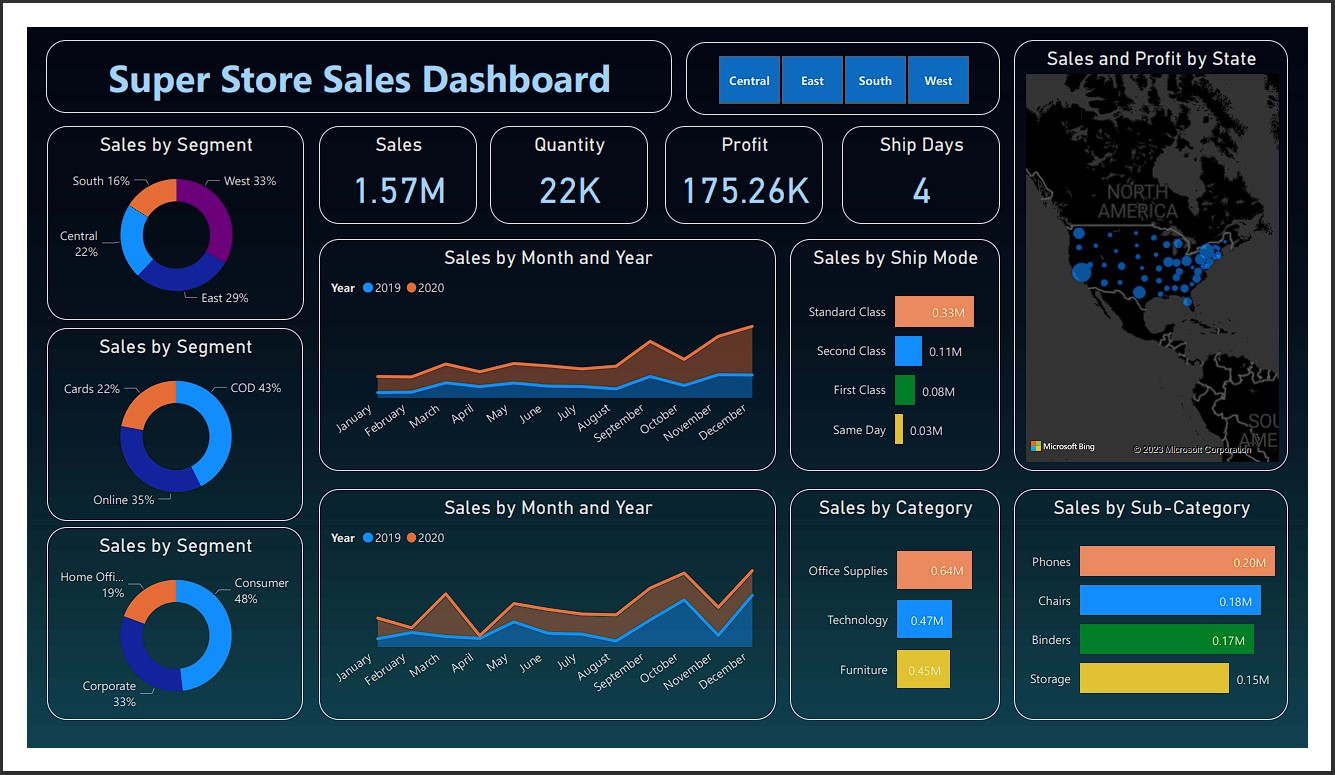

The page's visual inventory and layout, read from the dashboard file:
{"tool":"powerbi","page":{"name":"Page 1","canvas":[1280,720],"ordinal":0},"visuals":[{"type":"barChart","title":"Sales by Category","fields":{"Category":["SuperStore_Sales_Dataset.Category"],"Y":["Sum(SuperStore_Sales_Dataset.Sales)"]},"box":[762.6,462,209.9,231.3],"z":0},{"type":"barChart","title":"Sales by Sub-Category","fields":{"Category":["SuperStore_Sales_Dataset.Sub-Category"],"Y":["Sum(SuperStore_Sales_Dataset.Sales)"]},"box":[987.2,462,274.1,231.3],"z":1000},{"type":"barChart","title":"Sales by Ship Mode","fields":{"Category":["SuperStore_Sales_Dataset.Ship Mode"],"Y":["Sum(SuperStore_Sales_Dataset.Sales)"]},"box":[762.6,212.2,209.9,231.3],"z":2000},{"type":"stackedAreaChart","title":"Sales by Month and Year","fields":{"Category":["SuperStore_Sales_Dataset.Order Date.Variation.Date Hierarchy.Month","SuperStore_Sales_Dataset.Order Date.Variation.Date Hierarchy.Day"],"Y":["Sum(SuperStore_Sales_Dataset.Sales)"],"Series":["SuperStore_Sales_Dataset.Order Date.Variation.Date Hierarchy.Year"]},"box":[292.2,212.2,456.8,231.3],"z":3000},{"type":"stackedAreaChart","title":"Sales by Month and Year","fields":{"Category":["SuperStore_Sales_Dataset.Order Date.Variation.Date Hierarchy.Month","SuperStore_Sales_Dataset.Order Date.Variation.Date Hierarchy.Day"],"Series":["SuperStore_Sales_Dataset.Order Date.Variation.Date Hierarchy.Year"],"Y":["Sum(SuperStore_Sales_Dataset.Profit)"]},"box":[292.2,462,456.8,231.3],"z":4000},{"type":"map","title":"Sales and Profit by State","fields":{"Category":["SuperStore_Sales_Dataset.State"],"Size":["Sum(SuperStore_Sales_Dataset.Sales)"]},"box":[987.2,12.9,274.1,430.6],"z":5000},{"type":"card","title":"Sales","fields":{"Values":["Sum(SuperStore_Sales_Dataset.Sales)"]},"box":[292.2,99.4,157.4,97.2],"z":6000},{"type":"donutChart","title":"Sales by Segment","fields":{"Category":["SuperStore_Sales_Dataset.Region"],"Y":["Sum(SuperStore_Sales_Dataset.Sales)"]},"box":[20.1,99.4,256.6,193.4],"z":7000},{"type":"donutChart","title":"Sales by Segment","fields":{"Y":["Sum(SuperStore_Sales_Dataset.Sales)"],"Category":["SuperStore_Sales_Dataset.Payment Mode"]},"box":[20.1,300.6,255.6,193.4],"z":8000},{"type":"slicer","fields":{"Values":["SuperStore_Sales_Dataset.Region"]},"box":[658.7,14.9,313.9,72.9],"z":9000},{"type":"textbox","box":[19.1,12.9,625.9,72.9],"z":10000},{"type":"card","title":"Quantity","fields":{"Values":["Sum(SuperStore_Sales_Dataset.Quantity)"]},"box":[463.3,99.4,157.4,97.2],"z":11000},{"type":"card","title":"Profit","fields":{"Values":["Sum(SuperStore_Sales_Dataset.Profit)"]},"box":[638.2,99.4,157.4,97.2],"z":12000},{"type":"donutChart","title":"Sales by Segment","fields":{"Y":["Sum(SuperStore_Sales_Dataset.Sales)"],"Category":["SuperStore_Sales_Dataset.Segment"]},"box":[20.1,499.9,256,193],"z":13000},{"type":"card","title":"Ship Days","fields":{"Values":["Avg(SuperStore_Sales_Dataset.Average Delivery)"]},"box":[815.1,99.4,157.4,97.2],"z":14000}]}

Visuals, with their boxes on the page's 1280x720 design canvas (x1, y1, x2, y2). These are canvas units, not pixel positions in the 1335x775 screenshot, which may show the page scaled, cropped or inside an application window:
"Sales by Category" barChart: 763 462 972 693
"Sales by Sub-Category" barChart: 987 462 1261 693
"Sales by Ship Mode" barChart: 763 212 972 444
"Sales by Month and Year" stackedAreaChart: 292 212 749 444
"Sales by Month and Year" stackedAreaChart: 292 462 749 693
"Sales and Profit by State" map: 987 13 1261 444
"Sales" card: 292 99 450 197
"Sales by Segment" donutChart: 20 99 277 293
"Sales by Segment" donutChart: 20 301 276 494
slicer - SuperStore_Sales_Dataset.Region: 659 15 973 88
textbox: 19 13 645 86
"Quantity" card: 463 99 621 197
"Profit" card: 638 99 796 197
"Sales by Segment" donutChart: 20 500 276 693
"Ship Days" card: 815 99 972 197
